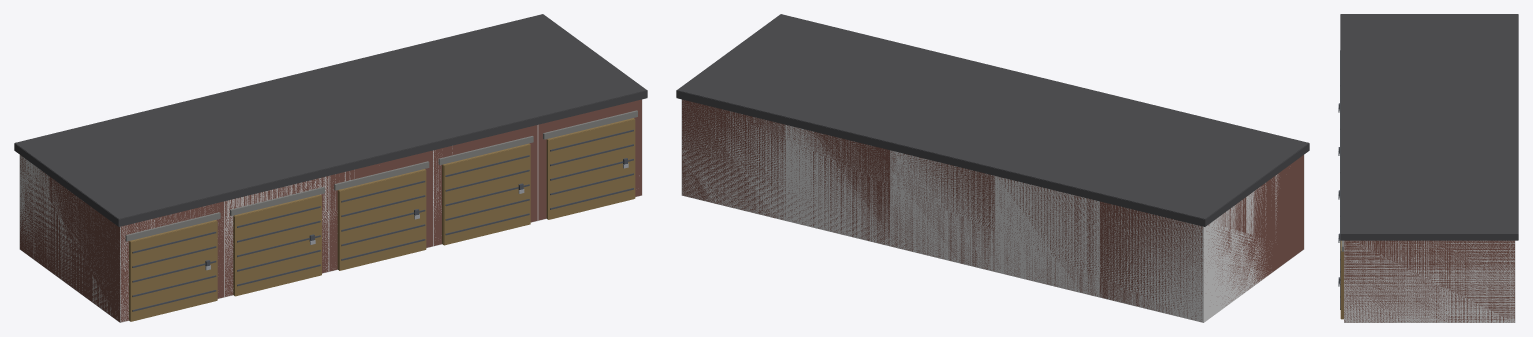
Rendered from garage_row.glb.
3 renders of one model, left to right at view 1: azimuth 30°, elevation 25°; view 2: azimuth 150°, elevation 25°; view 3: azimuth 270°, elevation 25°, orthographic. The views are drawn at different scales.
Parts seen in each view (by area): view 1: garage_mesh, garage_row-col; view 2: garage_mesh, garage_row-col; view 3: garage_mesh, garage_row-col.
Part boxes in pixels (left/top/right/bottom): garage_mesh: left=14, top=14, right=647, bottom=321; garage_row-col: left=19, top=99, right=642, bottom=322; garage_mesh: left=676, top=14, right=1309, bottom=321; garage_row-col: left=681, top=99, right=1304, bottom=322; garage_mesh: left=1338, top=14, right=1518, bottom=322; garage_row-col: left=1344, top=240, right=1515, bottom=322.
Bounding box in the file's own units: 15.2 × 2.91 × 5.26.
